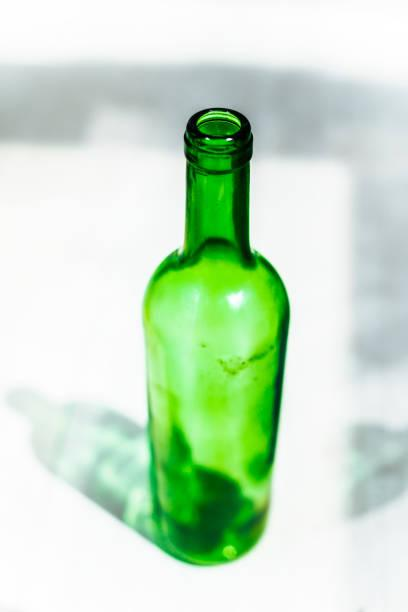glass: (143, 111, 288, 568)
